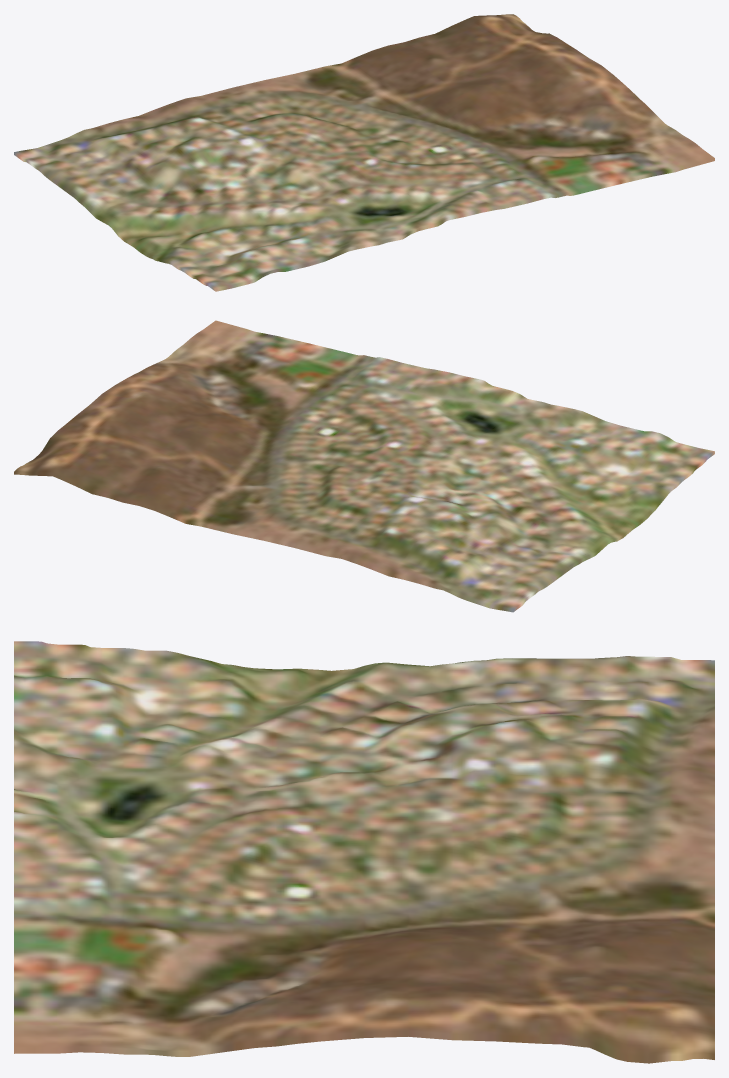
The model's file is terrain_r2_c2_lod1.glb.
3 renders of one model, top to bottom at view 1: azimuth 30°, elevation 25°; view 2: azimuth 150°, elevation 25°; view 3: azimuth 270°, elevation 25°, orthographic. The views are drawn at different scales.
Parts seen in each view (by area): view 1: terrain_r2_c2_lod1; view 2: terrain_r2_c2_lod1; view 3: terrain_r2_c2_lod1.
Part boxes in pixels (x1,y1,x2,y2): terrain_r2_c2_lod1: [14, 14, 714, 291]; terrain_r2_c2_lod1: [14, 320, 714, 612]; terrain_r2_c2_lod1: [14, 641, 714, 1063].
Bounding box in the file's own units: 1125 × 89.96 × 787.
Materials: 1 (1 with a texture image).
